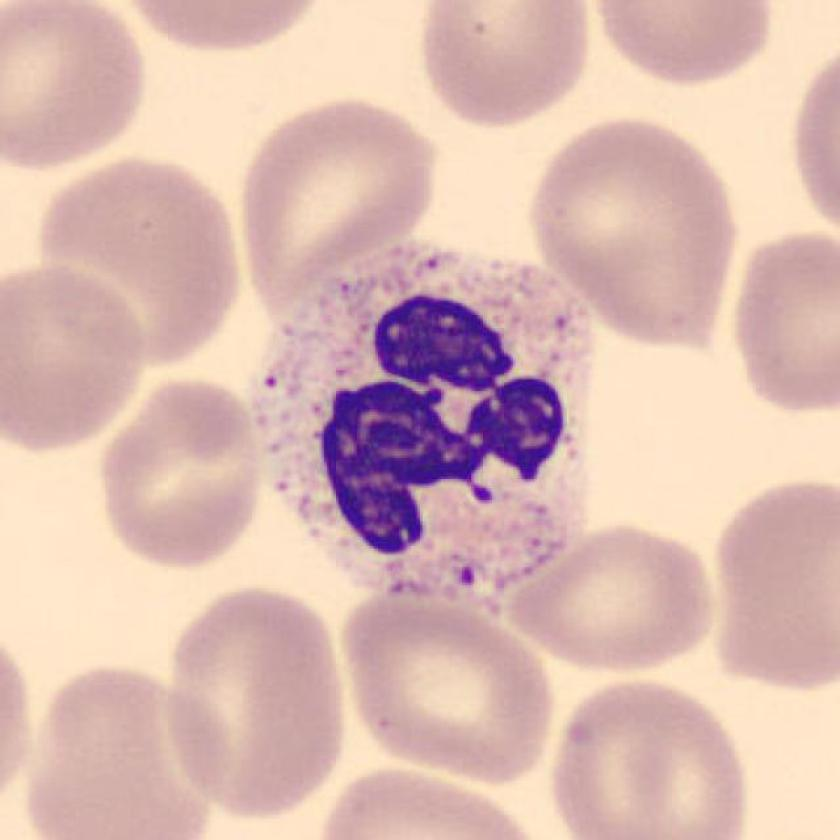neutrophil: (243, 236, 592, 603)
